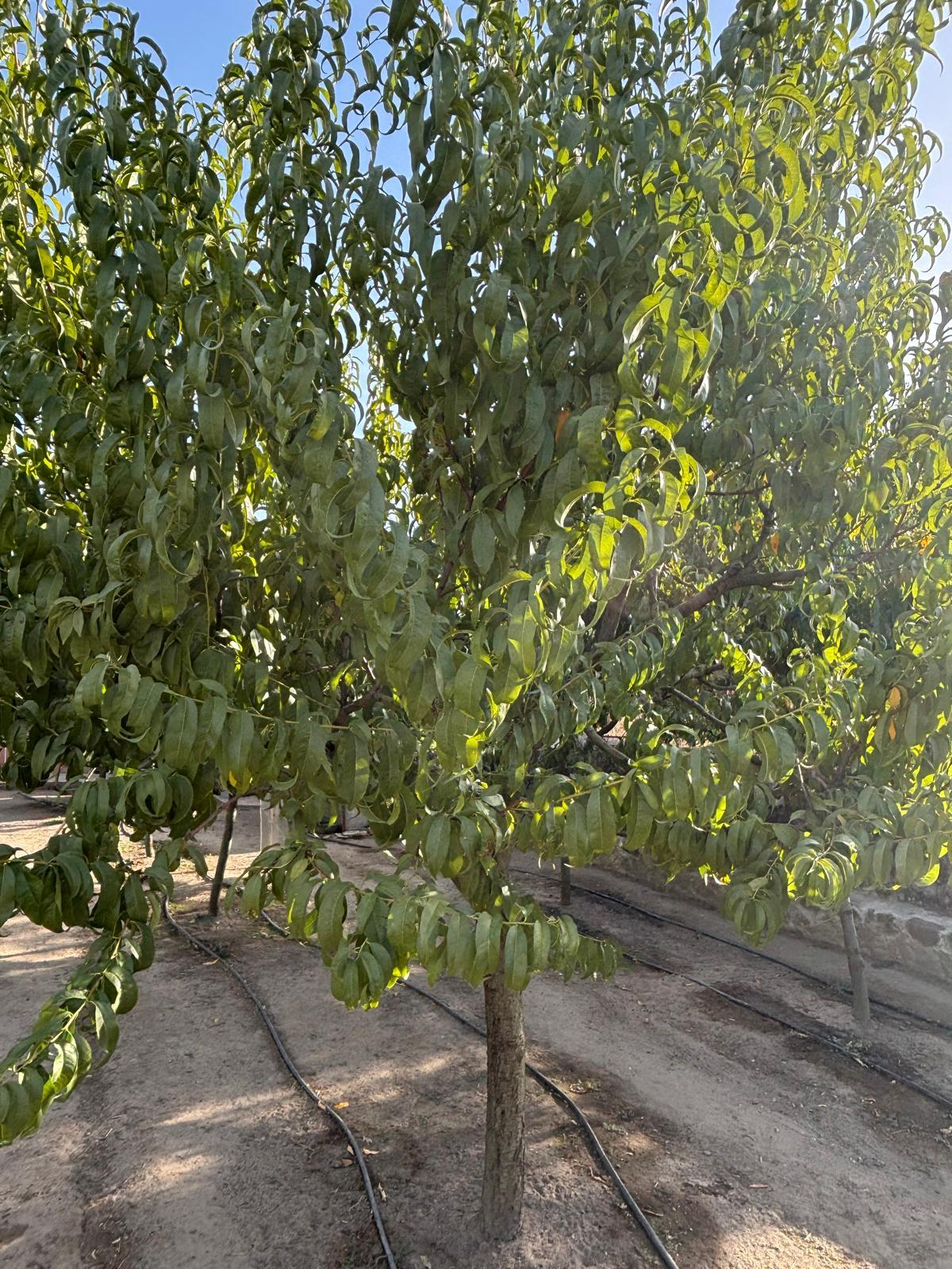melocotonero: (190, 241, 779, 1223)
